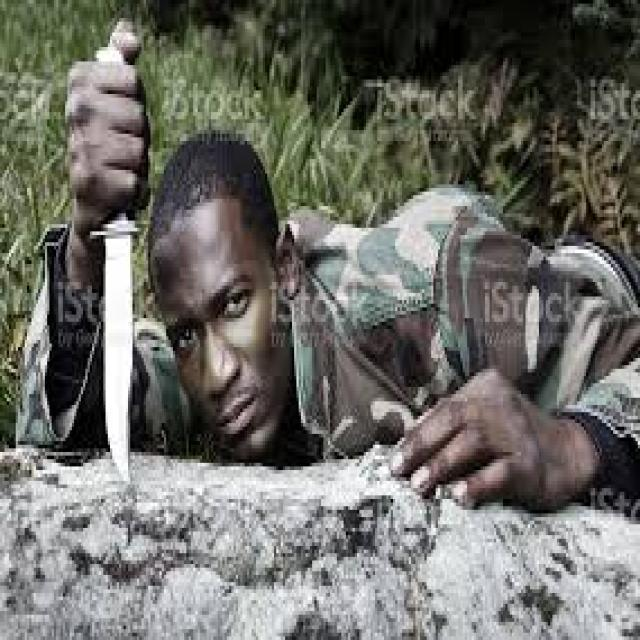faca: (72, 32, 160, 500)
